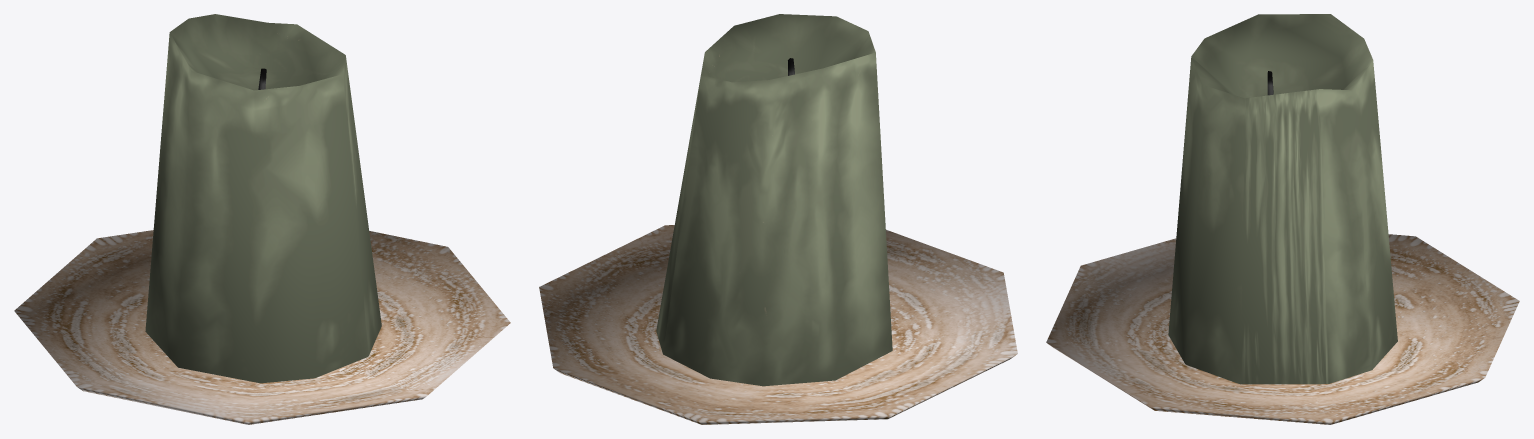
File: Candle LOD2.fbx
The picture shows the model from 3 angles, left to right: view 1: azimuth 30°, elevation 25°; view 2: azimuth 150°, elevation 25°; view 3: azimuth 270°, elevation 25°; orthographic projection. The views are drawn at different scales.
Visible parts, largest first — view 1: Candle LOD2; view 2: Candle LOD2; view 3: Candle LOD2.
Part boxes in pixels (bbox=[...]): Candle LOD2: bbox=[14, 14, 510, 424]; Candle LOD2: bbox=[539, 14, 1017, 424]; Candle LOD2: bbox=[1046, 14, 1519, 424].
Size of the model in its own units: 17.49 by 12.59 by 17.49.
